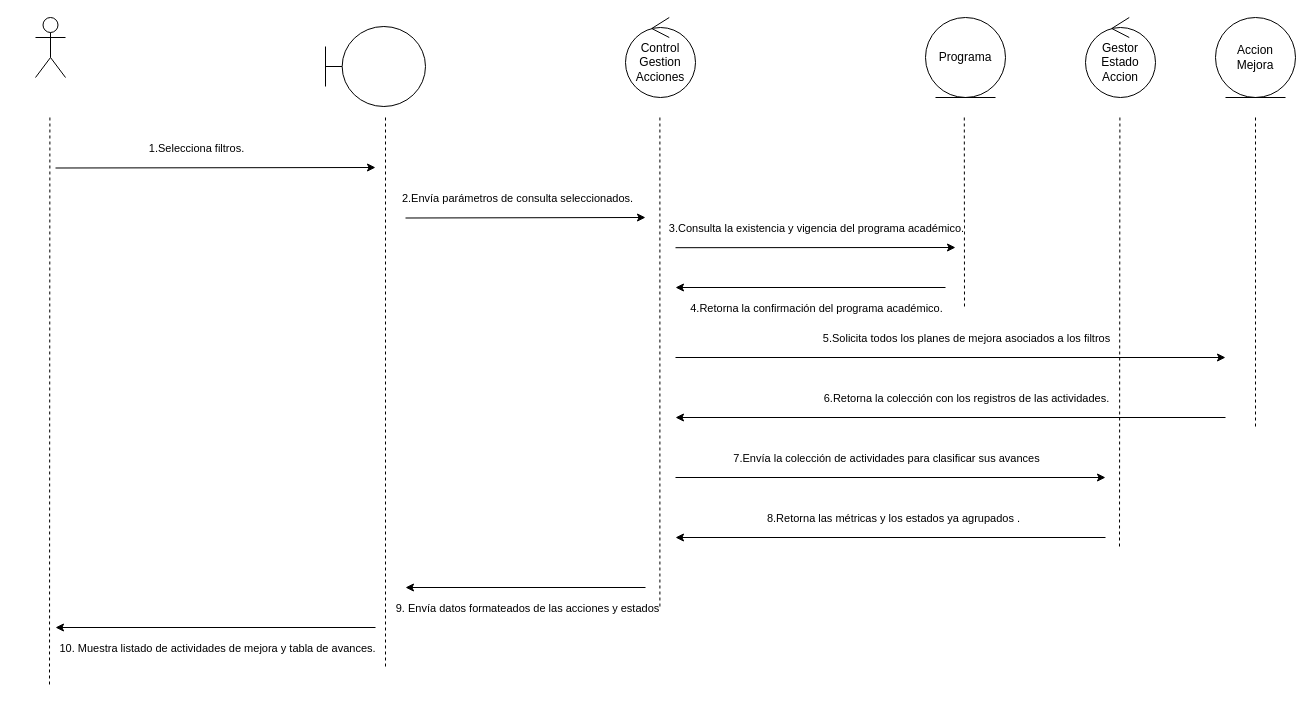
Image size: 1313x706. Some labels were removed from this diagram. The box of each missing label's shape, as (x1, y1, x2, y2) in pixels:
Coordinador: (34, 16, 66, 78)
Pantalla Consultar Acciones: (324, 26, 426, 106)
